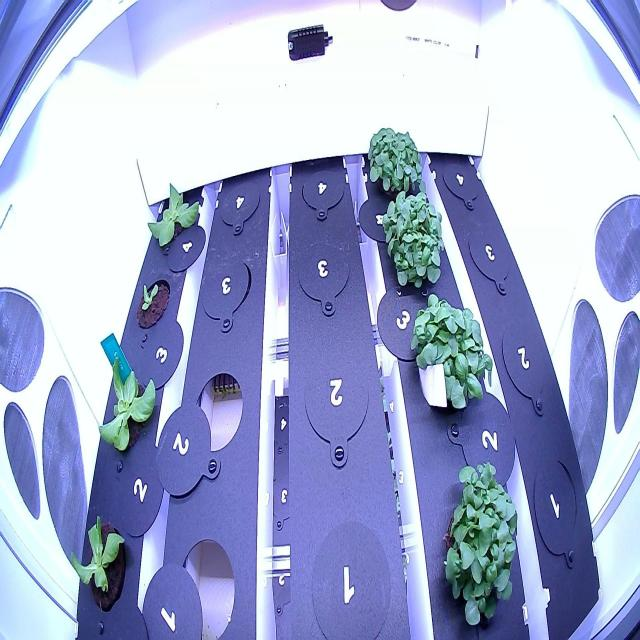empty_pod: (299, 494, 396, 640), (294, 336, 372, 475), (164, 529, 243, 639), (524, 446, 584, 576), (188, 363, 246, 471), (494, 311, 551, 420), (291, 230, 355, 324), (462, 218, 520, 302), (196, 251, 254, 332), (294, 161, 348, 233), (437, 141, 487, 216), (214, 170, 264, 238)
young: (85, 347, 160, 465), (65, 500, 135, 616), (144, 176, 203, 260), (123, 271, 173, 339)
